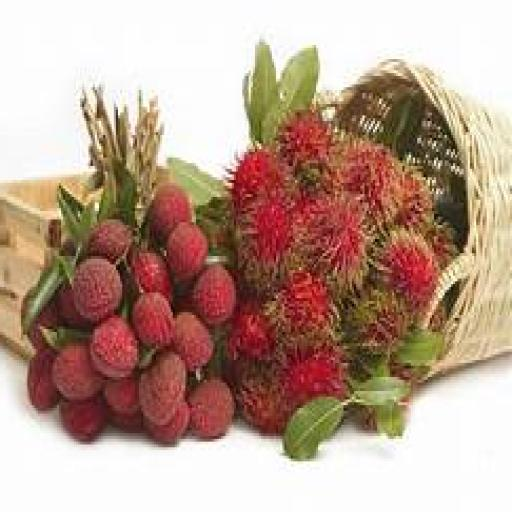lychee: (297, 195, 367, 295), (337, 141, 401, 225), (238, 195, 291, 295), (265, 271, 334, 346), (379, 231, 439, 312), (282, 347, 346, 410), (347, 290, 409, 354), (235, 363, 289, 436), (229, 150, 291, 213), (278, 110, 334, 174), (139, 352, 186, 424), (71, 256, 121, 323), (90, 316, 138, 379), (52, 344, 102, 399), (187, 377, 232, 438), (147, 183, 190, 244), (191, 265, 234, 326), (227, 302, 272, 360), (166, 223, 207, 281), (172, 313, 211, 371), (396, 169, 433, 230), (130, 293, 171, 348), (130, 251, 171, 301), (61, 397, 106, 441), (86, 220, 131, 264), (143, 400, 188, 444), (27, 349, 57, 410), (56, 282, 89, 329), (27, 299, 57, 348), (103, 375, 138, 416), (109, 411, 142, 433)
